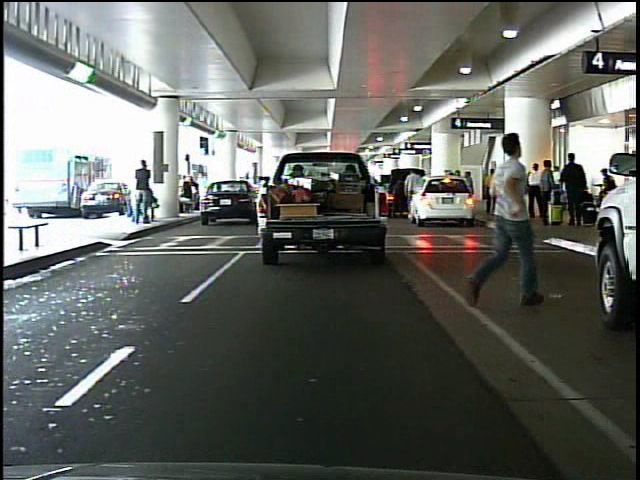person: (460, 118, 542, 325), (561, 143, 589, 230), (491, 157, 522, 229), (132, 157, 155, 227), (519, 155, 542, 221), (402, 165, 426, 222), (538, 152, 554, 230), (597, 164, 619, 191)
